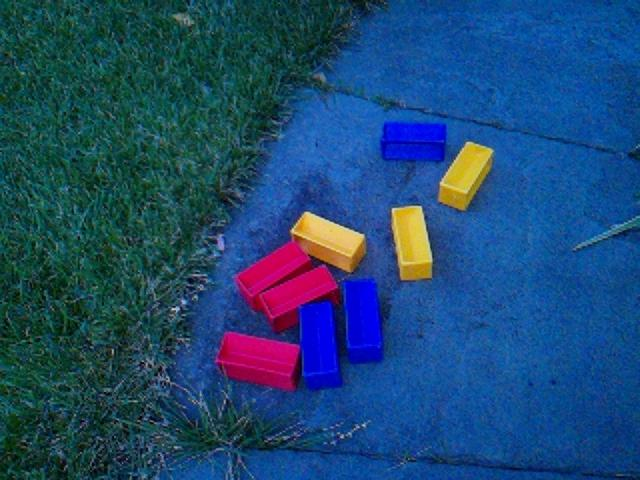blue: (298, 300, 343, 391), (342, 277, 385, 365), (379, 119, 449, 164)
red: (257, 264, 341, 333), (214, 330, 302, 393), (234, 240, 312, 310)
yellow: (290, 210, 368, 274), (438, 139, 495, 212), (390, 204, 435, 282)
